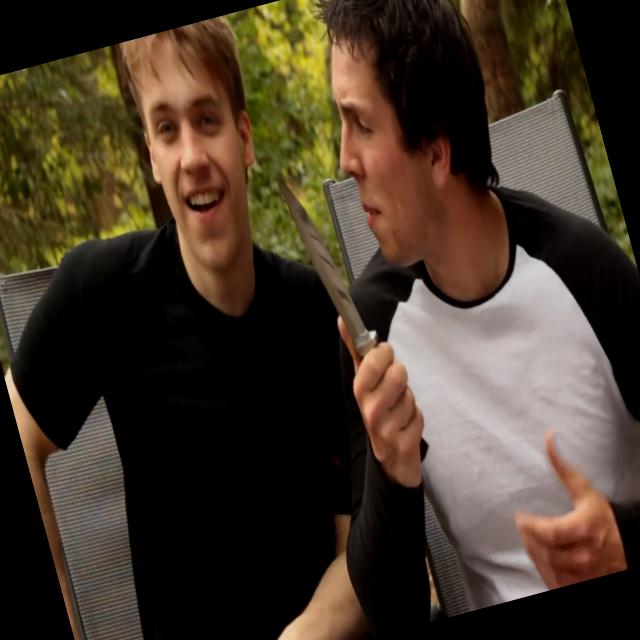knife: (264, 137, 435, 468)
